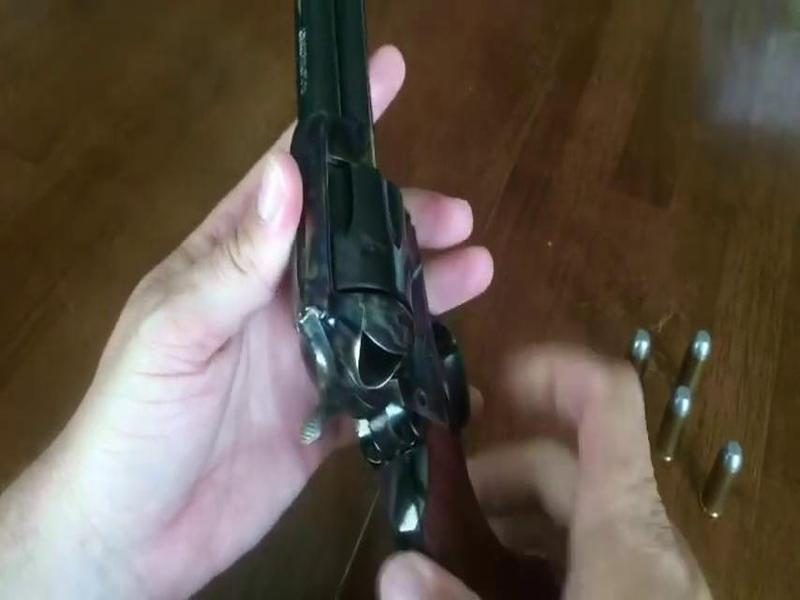Revolver: (266, 21, 520, 600)
